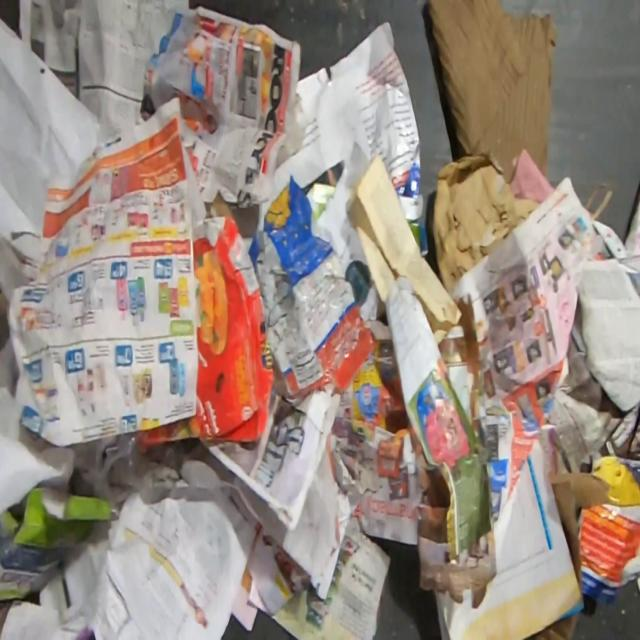cardboard: (124, 214, 275, 451), (248, 174, 378, 399), (423, 0, 558, 183), (0, 483, 115, 605), (549, 471, 613, 591)
